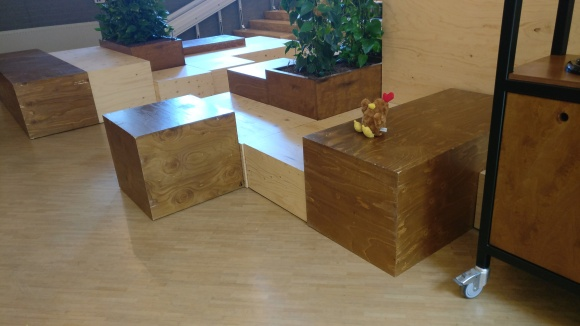chicken: (353, 90, 396, 139)
